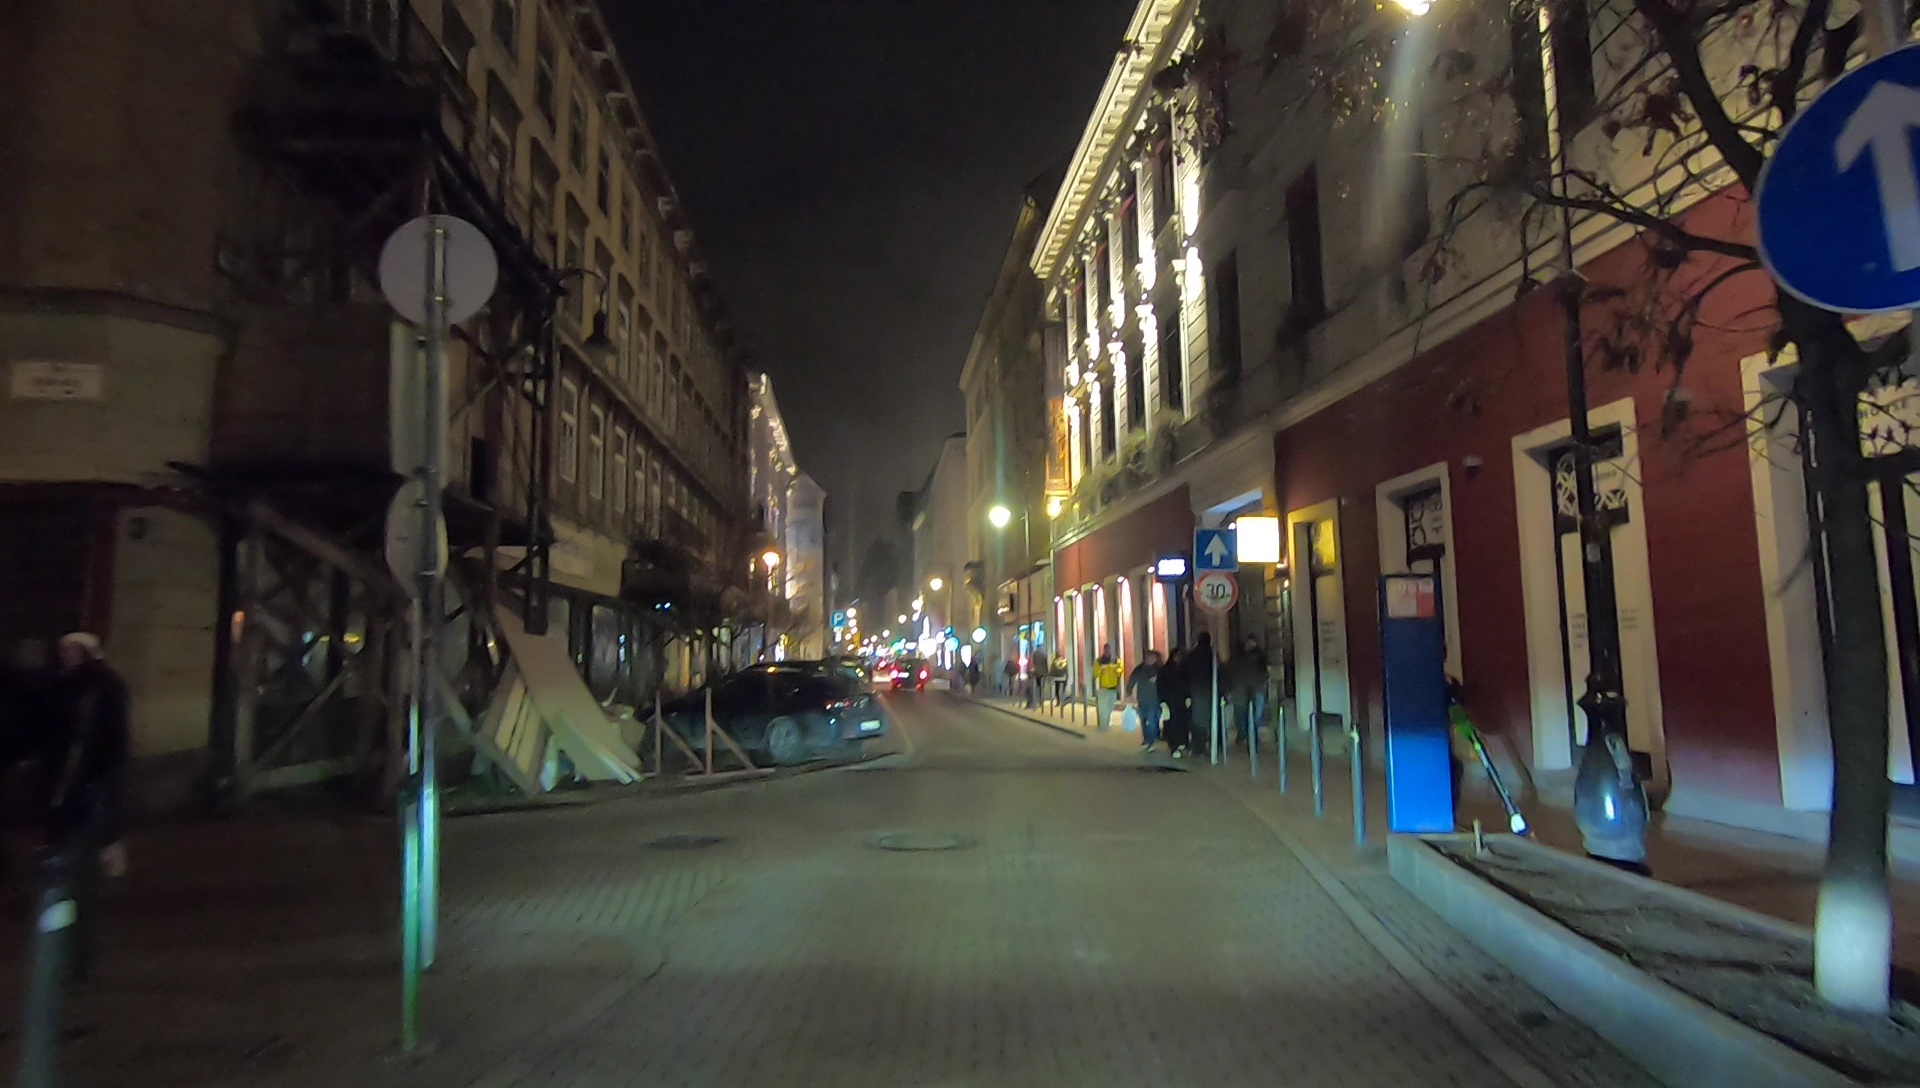person: (30, 632, 143, 887), (1231, 632, 1267, 745), (1187, 629, 1217, 753), (1130, 643, 1164, 750), (1161, 642, 1189, 755), (1094, 643, 1123, 711), (1054, 653, 1069, 700), (1035, 643, 1047, 699)
